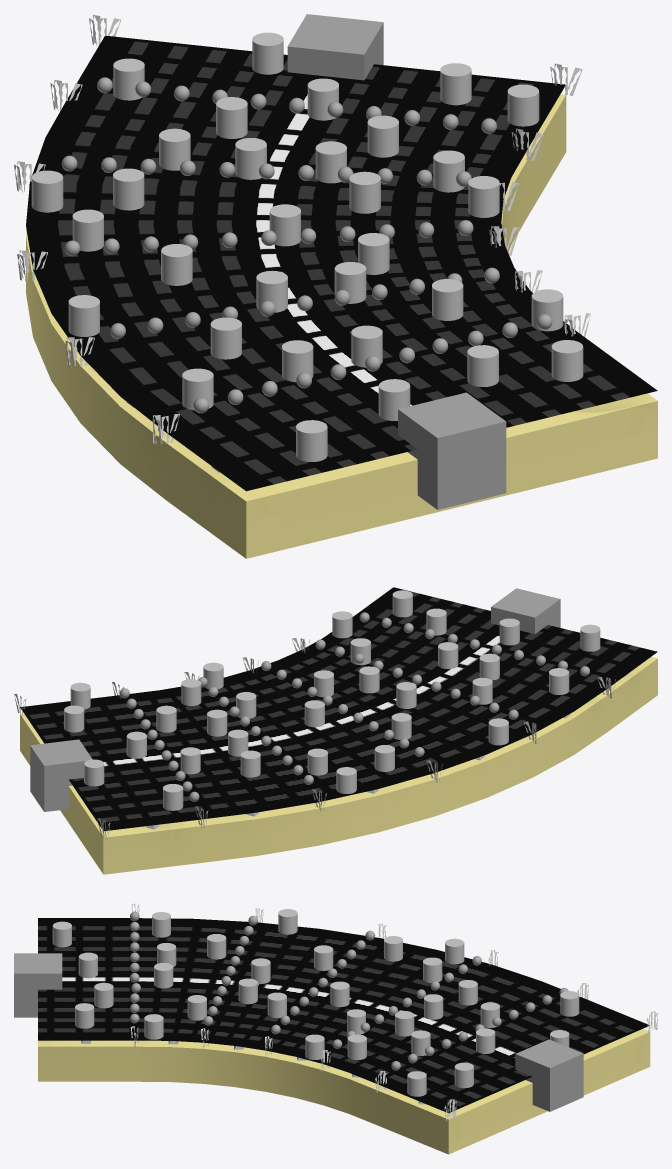
The model's file is assets013_Streckenteil_rechts001.fbx.
3 renders of one model, top to bottom at view 1: azimuth 30°, elevation 25°; view 2: azimuth 150°, elevation 25°; view 3: azimuth 270°, elevation 25°, orthographic. The views are drawn at different scales.
Parts seen in each view (by area): view 1: streckenteil_rechtskurve_indicator_geo, streckenteil_rechtskurve_geo1, b (×12), a (×12), startpoint, c (×7), startpoint1, d; view 2: streckenteil_rechtskurve_indicator_geo, streckenteil_rechtskurve_geo1, b (×12), a (×12), c (×7), startpoint1, startpoint, d; view 3: streckenteil_rechtskurve_indicator_geo, streckenteil_rechtskurve_geo1, a (×12), b (×12), startpoint1, c (×6), startpoint, d.
Part boxes in pixels (<box>): streckenteil_rechtskurve_indicator_geo: <box>26,36,657,491</box>; streckenteil_rechtskurve_geo1: <box>26,94,657,558</box>; b (×12): <box>31,63,499,312</box>; a (×12): <box>68,262,583,461</box>; startpoint: <box>398,392,506,509</box>; c (×7): <box>113,32,539,213</box>; startpoint1: <box>287,14,383,80</box>; d: <box>367,115,398,157</box>; streckenteil_rechtskurve_indicator_geo: <box>20,587,657,831</box>; streckenteil_rechtskurve_geo1: <box>20,656,657,874</box>; b (×12): <box>64,662,416,793</box>; a (×12): <box>332,590,600,745</box>; c (×7): <box>70,682,260,810</box>; startpoint1: <box>30,739,92,811</box>; startpoint: <box>491,588,560,633</box>; d: <box>156,705,176,732</box>; streckenteil_rechtskurve_indicator_geo: <box>38,918,649,1113</box>; streckenteil_rechtskurve_geo1: <box>38,1029,650,1154</box>; a (×12): <box>52,909,297,1039</box>; b (×12): <box>251,936,499,1088</box>; startpoint1: <box>515,1039,583,1111</box>; c (×6): <box>347,980,579,1096</box>; startpoint: <box>14,953,62,1017</box>; d: <box>411,1030,430,1055</box>.
Bounding box in the file's own units: 49.79 × 6.73 × 66.66.
